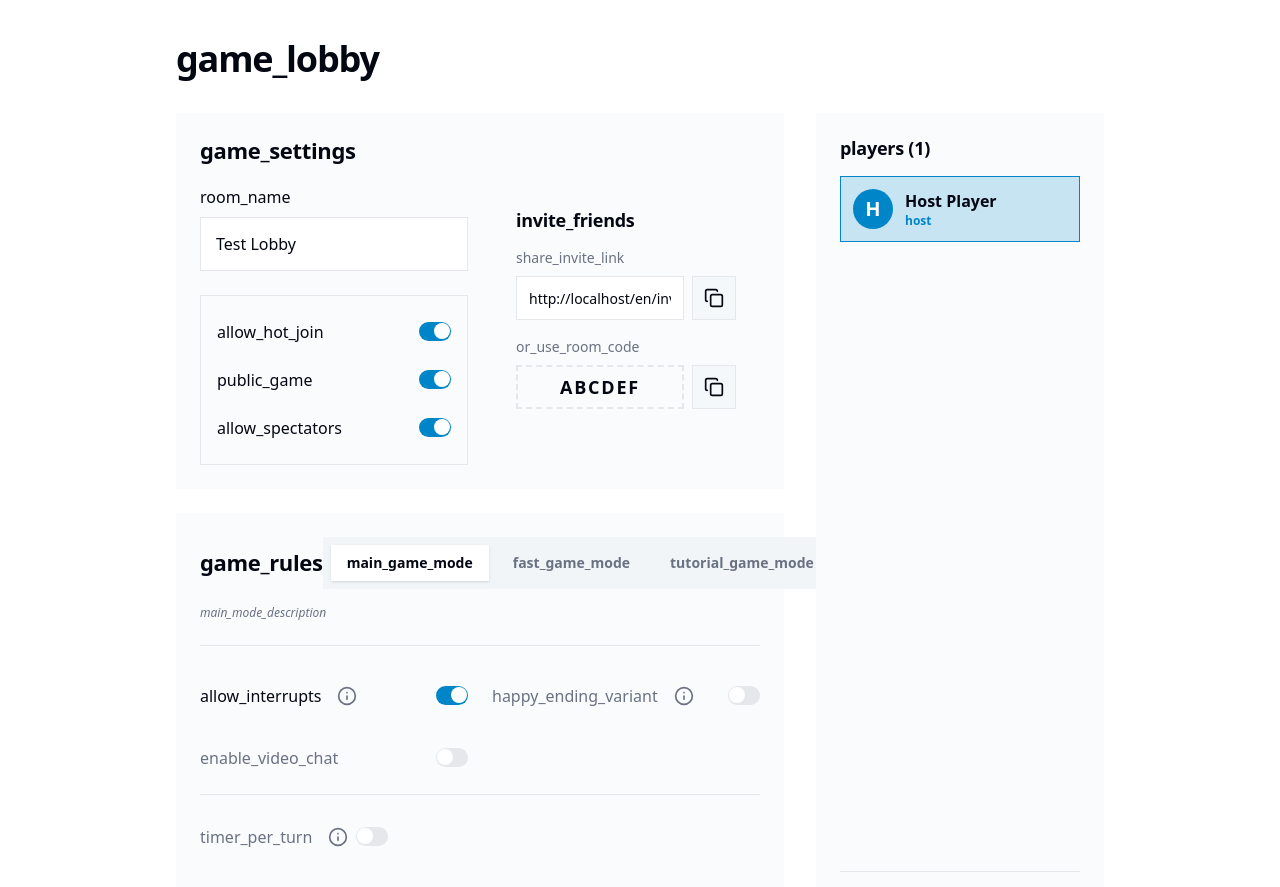
it: AdminLobbyView › updates settings and disables allow_interrupts when switching to fast mode
The width and height of the screenshot is (1280, 887).
Click the button "fast_game_mode": (571, 562) left=497, top=544, right=646, bottom=580
(page scrolled)
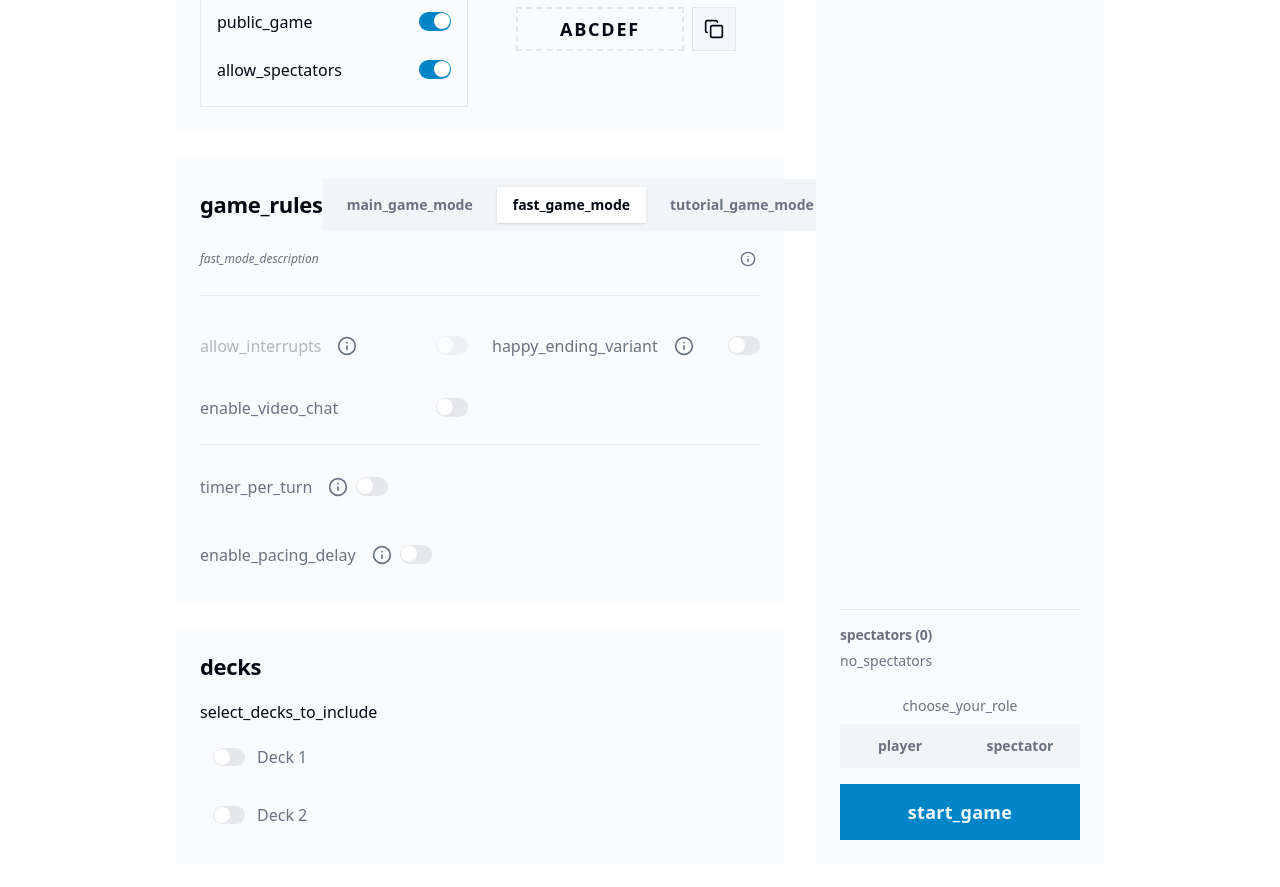
Check: the text "Deck 1" is shown, box left=257, top=745, right=307, bottom=769
